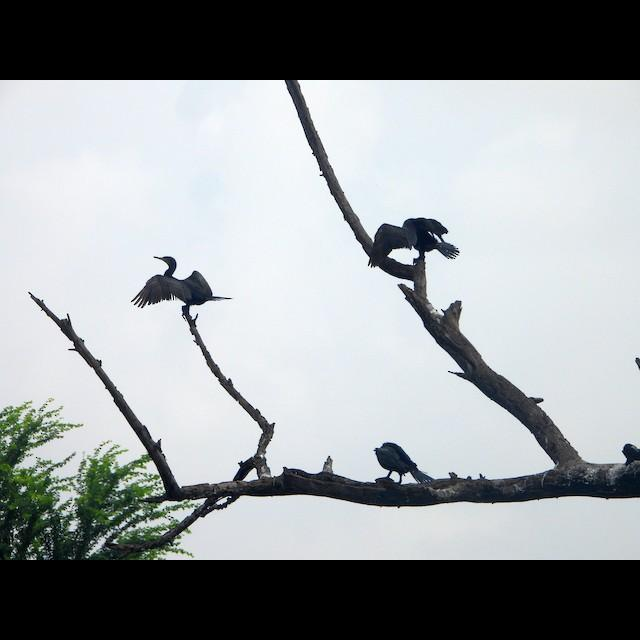cormorant: (137, 252, 229, 326), (364, 211, 456, 269), (371, 436, 424, 484)
